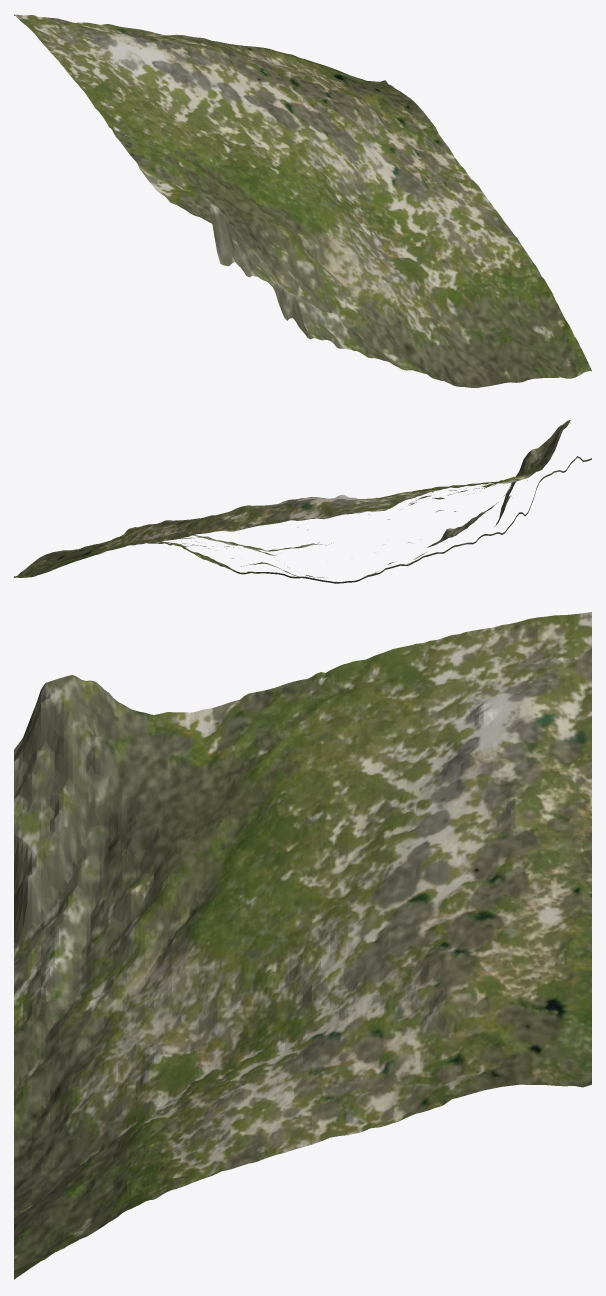
3 renders of one model, top to bottom at view 1: azimuth 30°, elevation 25°; view 2: azimuth 150°, elevation 25°; view 3: azimuth 270°, elevation 25°, orthographic. The views are drawn at different scales.
Bounding box in the file's own units: 250 × 193 × 241.
Materials: 1 (1 with a texture image).
